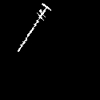treble_crochet: (18, 4, 50, 51)
